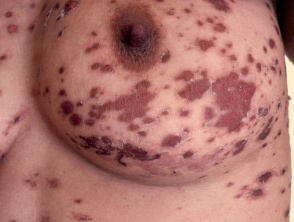SJS-TEN: (0, 0, 292, 222)
